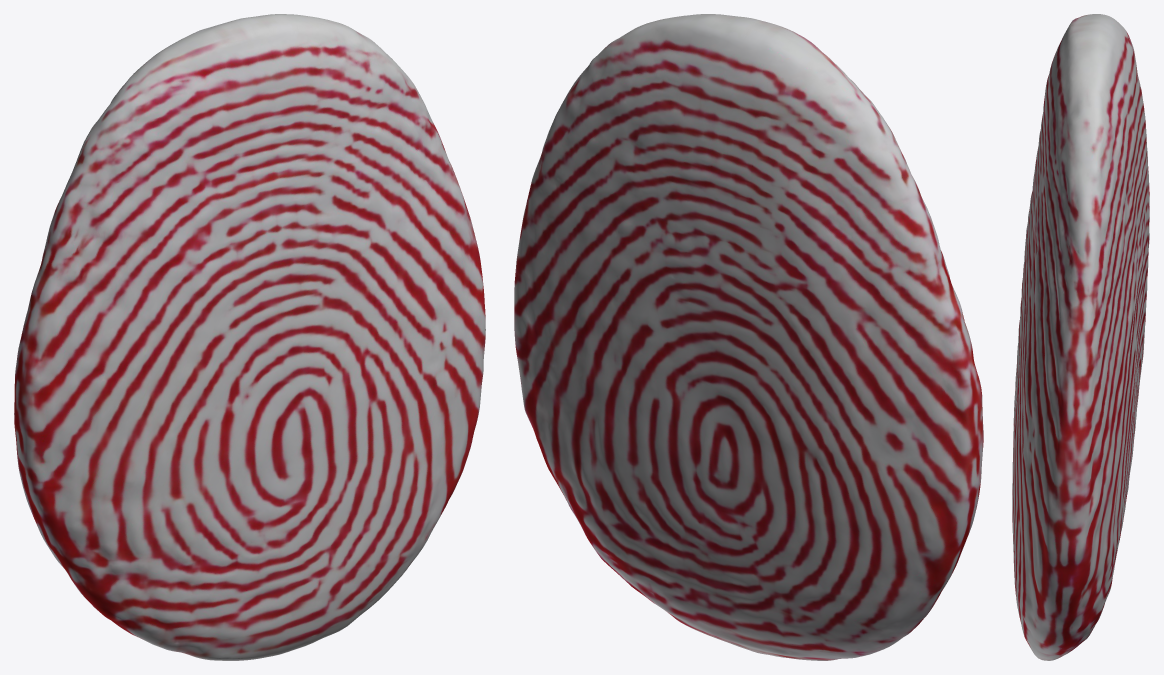
Rendered from 9dc4a9a1f73d_fingerprint__3d_ass.fbx.
3 renders of one model, left to right at view 1: azimuth 30°, elevation 25°; view 2: azimuth 150°, elevation 25°; view 3: azimuth 270°, elevation 25°, orthographic. The views are drawn at different scales.
Parts seen in each view (by area): view 1: high_poly; view 2: high_poly; view 3: high_poly.
Part boxes in pixels (<box>): high_poly: <box>14,14,485,660</box>; high_poly: <box>514,14,983,660</box>; high_poly: <box>1012,14,1149,660</box>.
Bounding box in the file's own units: 76.46 × 100 × 20.67.
